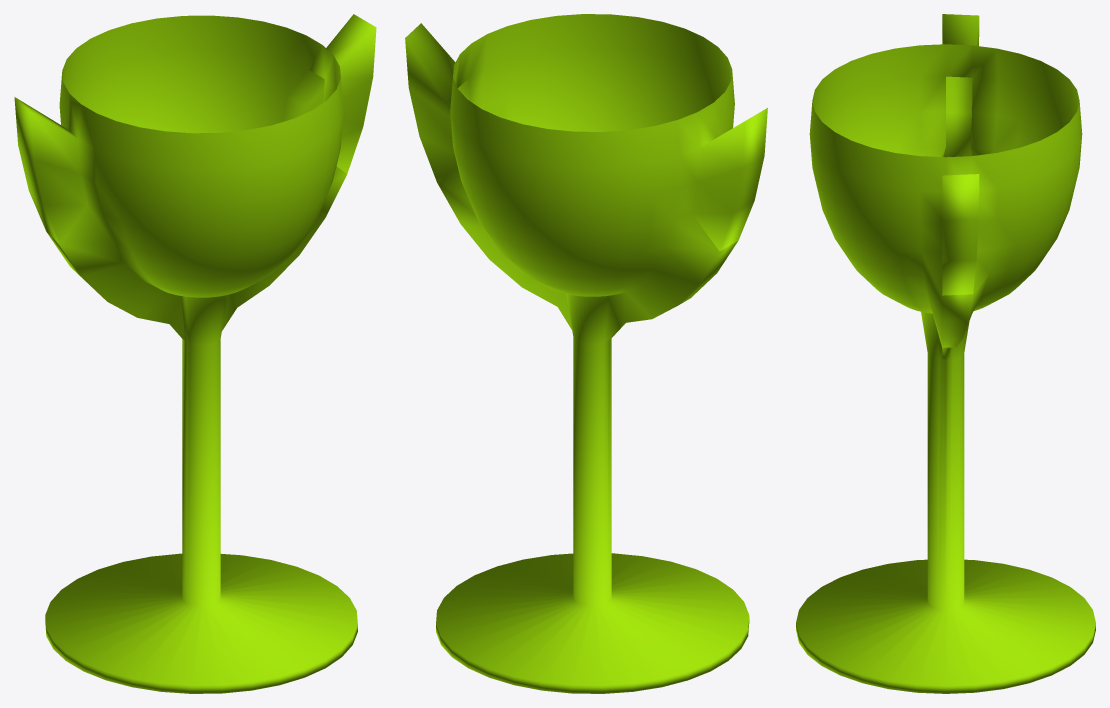
The model's file is chalice.glb.
3 views of the same model, side by side, from view 1: azimuth 30°, elevation 25°; view 2: azimuth 150°, elevation 25°; view 3: azimuth 270°, elevation 25° (orthographic). The views are drawn at different scales.
Visible parts, largest first — view 1: Sphere.001; view 2: Sphere.001; view 3: Sphere.001.
Boxes of the visible parts, x1,y1,x2,y2 form: Sphere.001: (14, 14, 376, 693); Sphere.001: (405, 14, 767, 693); Sphere.001: (796, 14, 1095, 693).
Size of the model in its own units: 2.81 by 4.34 by 2.2.
